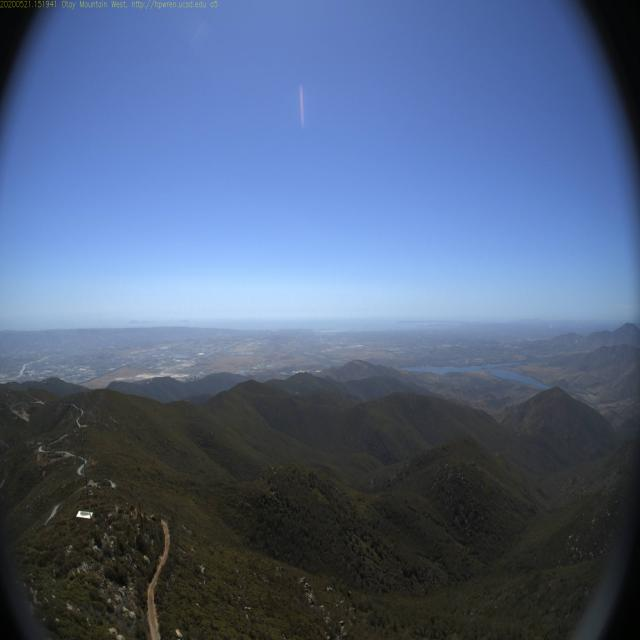smoke: (541, 304, 558, 339)
